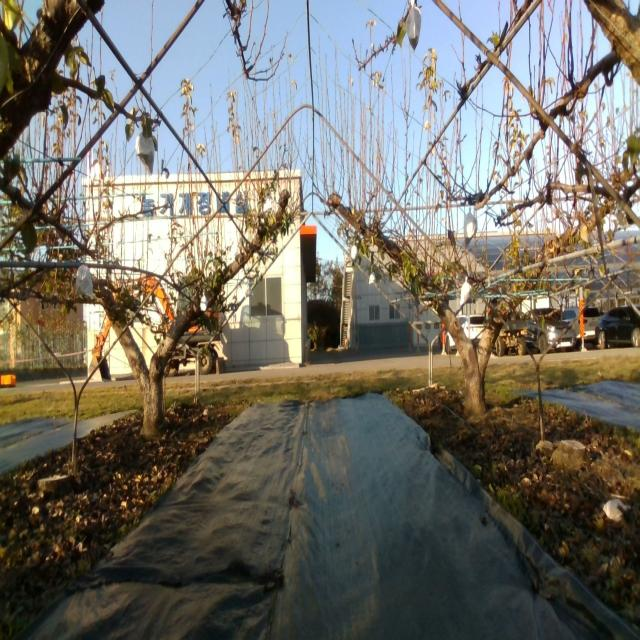pearbags: (136, 133, 156, 176), (405, 0, 421, 52), (75, 264, 94, 300), (464, 208, 478, 250), (460, 276, 472, 305)
